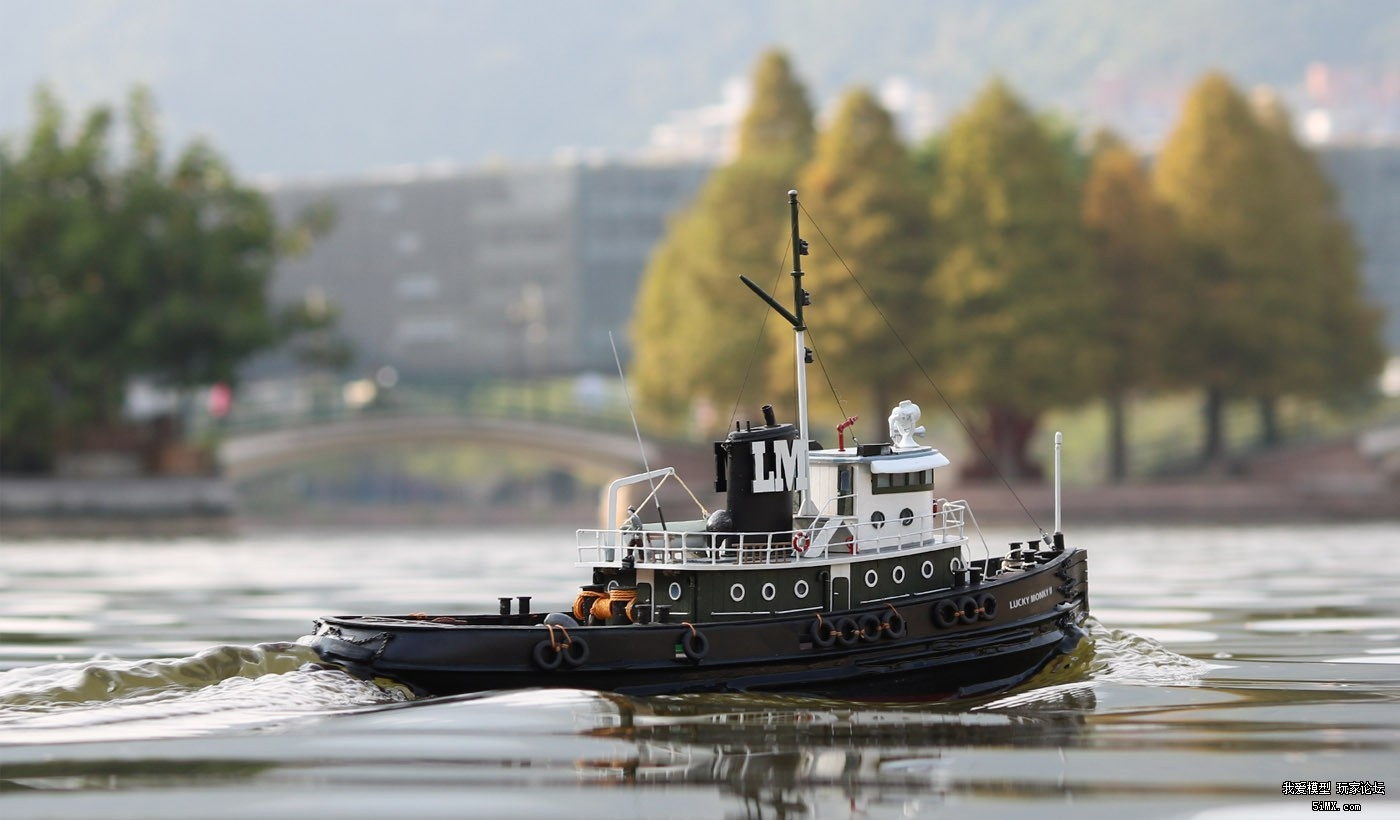otherboat: (299, 354, 1106, 705)
